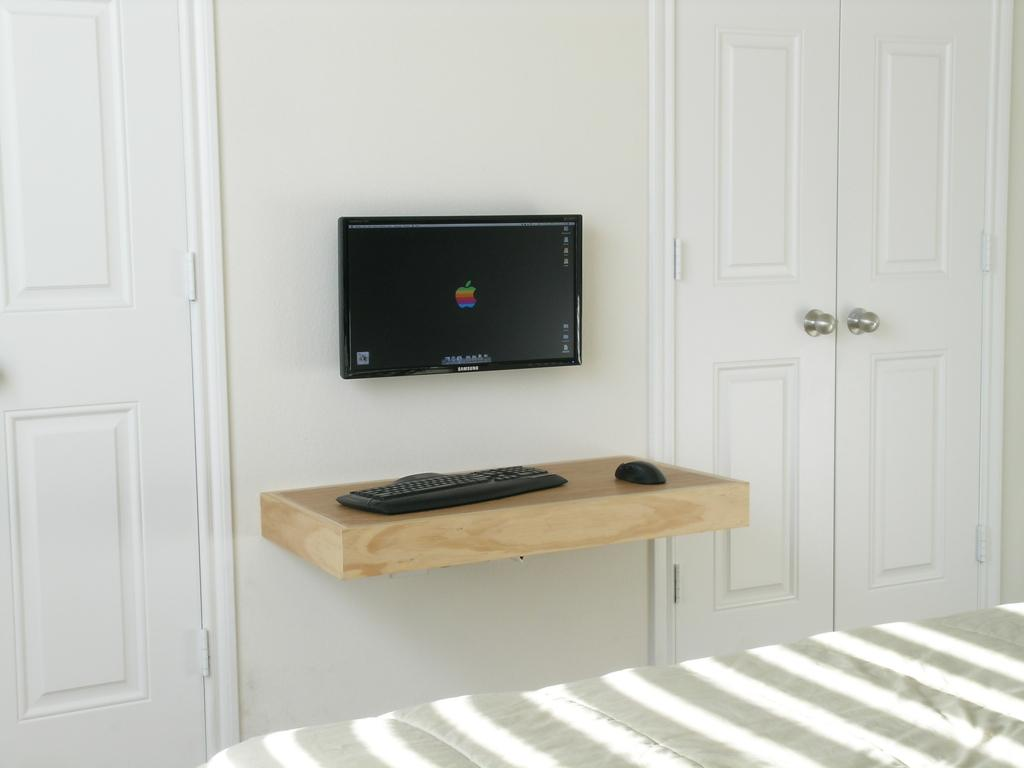Computer-monitor: (329, 211, 594, 405)
